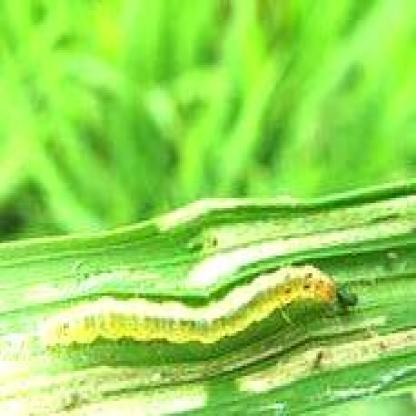leaf-folder: (42, 252, 354, 364)
